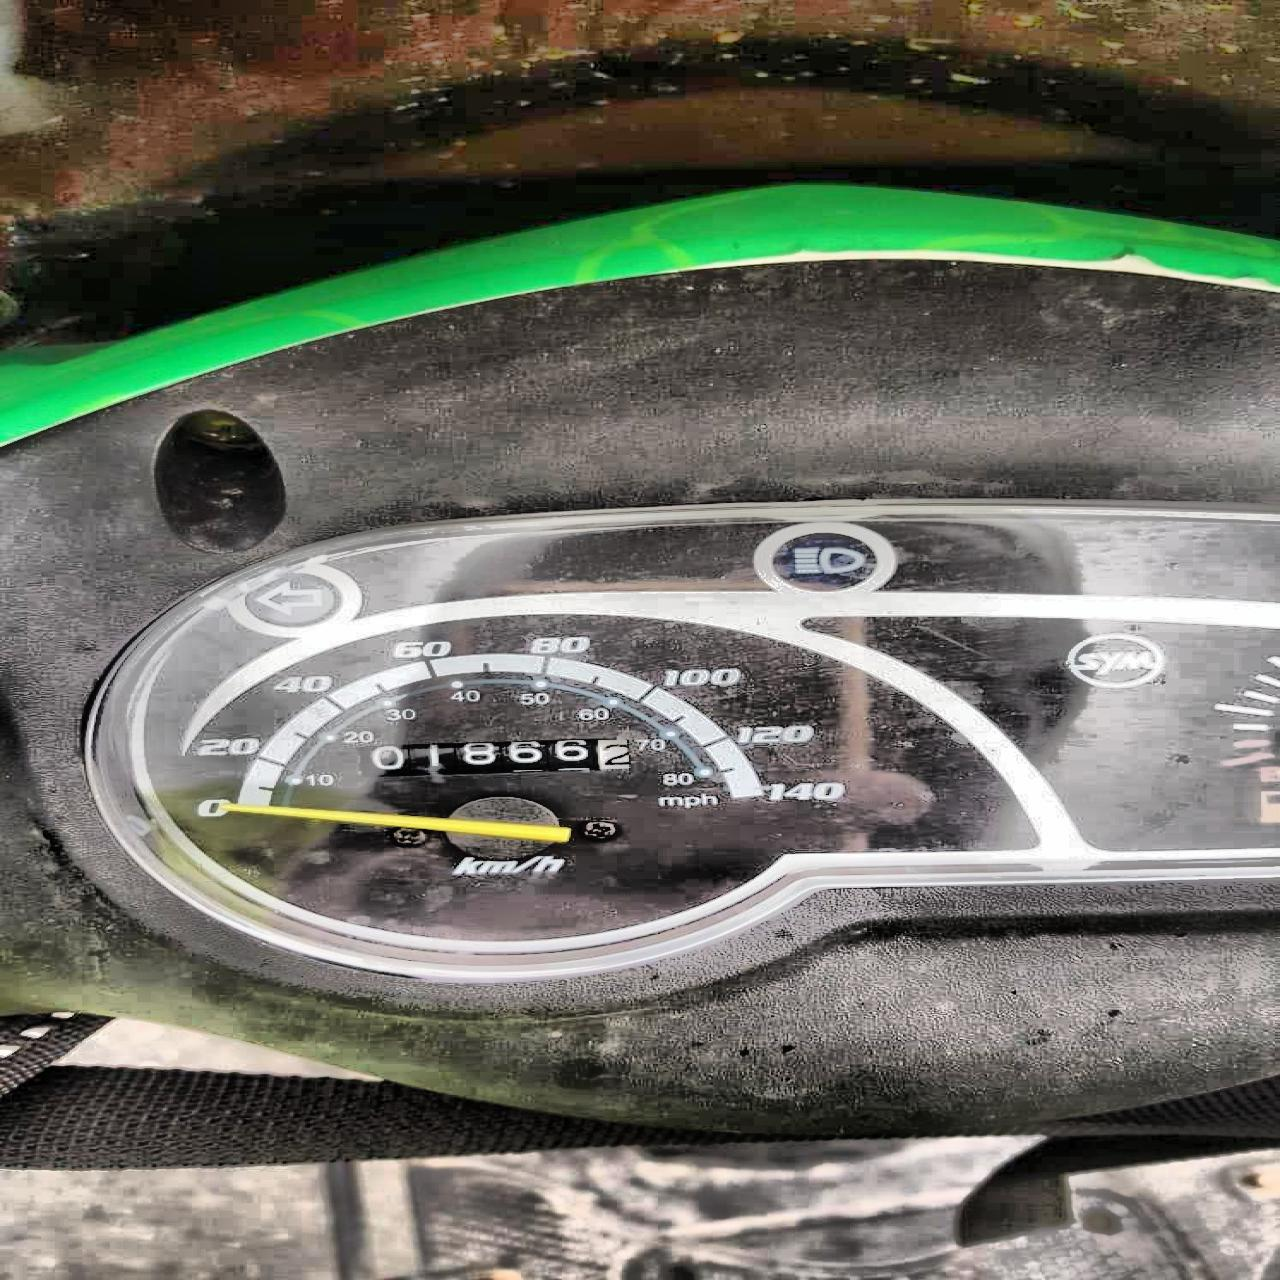0: (369, 744, 407, 770), (356, 734, 374, 743)
1: (418, 741, 445, 768)
2: (597, 741, 631, 765), (345, 734, 356, 743)
6: (550, 737, 590, 762), (504, 740, 543, 763)
8: (456, 740, 497, 765)
odometer: (345, 734, 639, 781)
